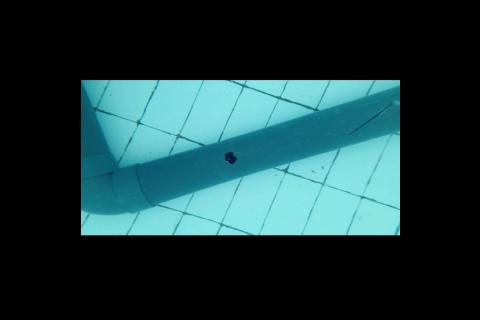kebocoran: (222, 150, 238, 166)
keretakan: (345, 101, 393, 137)
